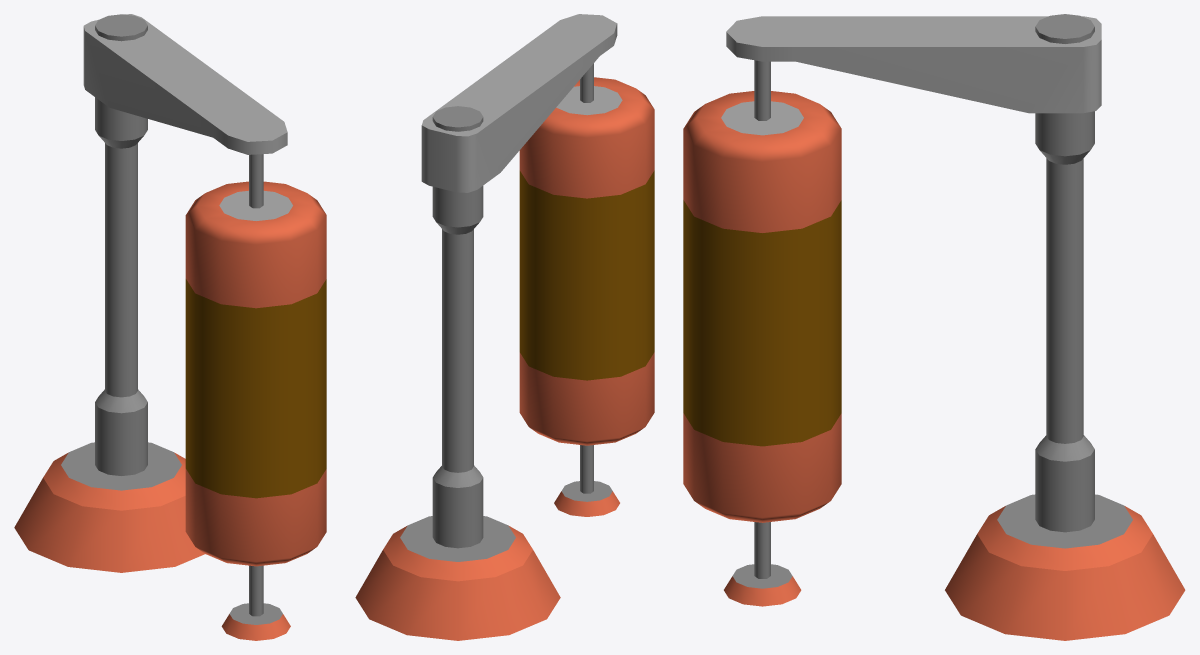
File: pear.fbx
3 renders of one model, left to right at view 1: azimuth 30°, elevation 25°; view 2: azimuth 150°, elevation 25°; view 3: azimuth 270°, elevation 25°, orthographic. The views are drawn at different scales.
Visible parts, largest first — view 1: pearEnd, pear; view 2: pear, pearEnd; view 3: pear, pearEnd.
Part boxes in pixels (bbox=[...]): pearEnd: bbox=[185, 181, 326, 566]; pear: bbox=[14, 14, 290, 640]; pear: bbox=[355, 14, 619, 640]; pearEnd: bbox=[519, 77, 654, 445]; pear: bbox=[724, 14, 1185, 640]; pearEnd: bbox=[683, 91, 841, 522].
Size of the model in its own units: 76.76 by 198 by 160.
